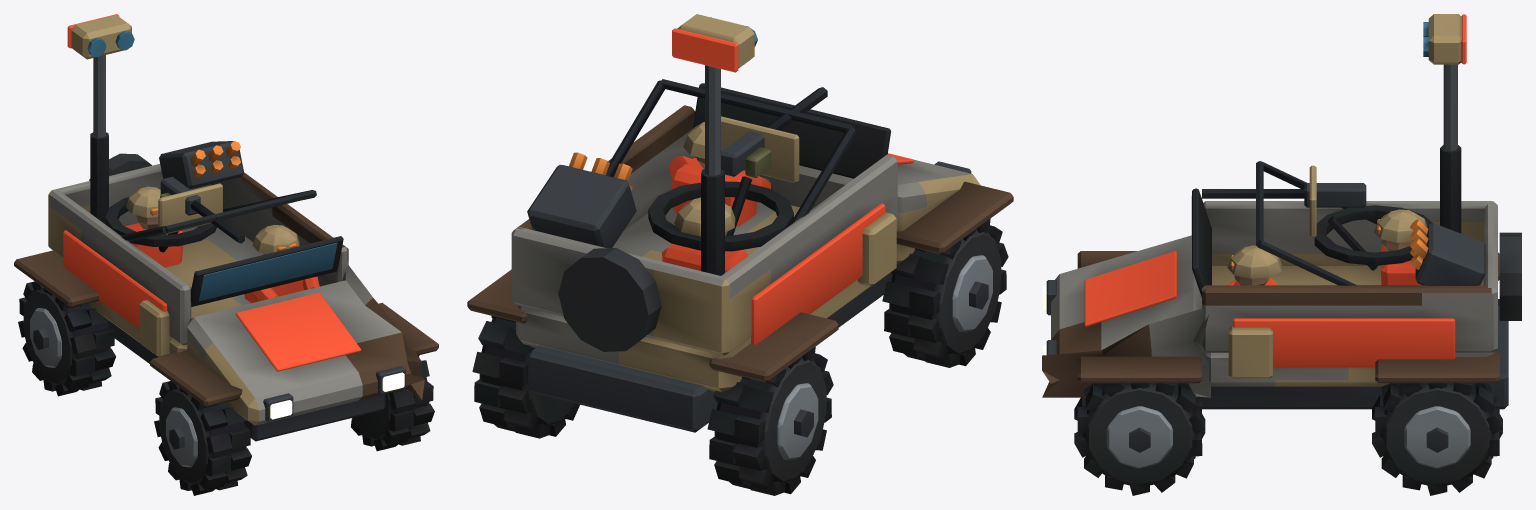
The model's file is fenrir.glb.
3 views of the same model, side by side, from view 1: azimuth 30°, elevation 25°; view 2: azimuth 150°, elevation 25°; view 3: azimuth 270°, elevation 25° (orthographic). The views are drawn at different scales.
Parts seen in each view (by area): view 1: geo_body, geo_wheel_front, geo_wheel_rear, geo_turret, geo_barrel; view 2: geo_body, geo_wheel_rear, geo_wheel_front, geo_turret, geo_barrel; view 3: geo_body, geo_wheel_rear, geo_wheel_front, geo_turret, geo_barrel.
Part boxes in pixels (<box>): geo_body: <box>14,14,438,441</box>; geo_wheel_front: <box>154,355,434,495</box>; geo_wheel_rear: <box>18,281,115,396</box>; geo_turret: <box>105,183,222,267</box>; geo_barrel: <box>160,176,244,243</box>; geo_body: <box>467,14,1013,432</box>; geo_wheel_rear: <box>472,316,833,495</box>; geo_wheel_front: <box>882,218,1008,367</box>; geo_turret: <box>648,116,799,272</box>; geo_barrel: <box>721,87,827,177</box>; geo_body: <box>1042,14,1521,409</box>; geo_wheel_rear: <box>1372,299,1502,495</box>; geo_wheel_front: <box>1074,383,1205,495</box>; geo_turret: <box>1309,165,1432,285</box>; geo_barrel: <box>1202,183,1366,207</box>.
Bounding box in the file's own units: 3.42 × 4.77 × 5.4.
